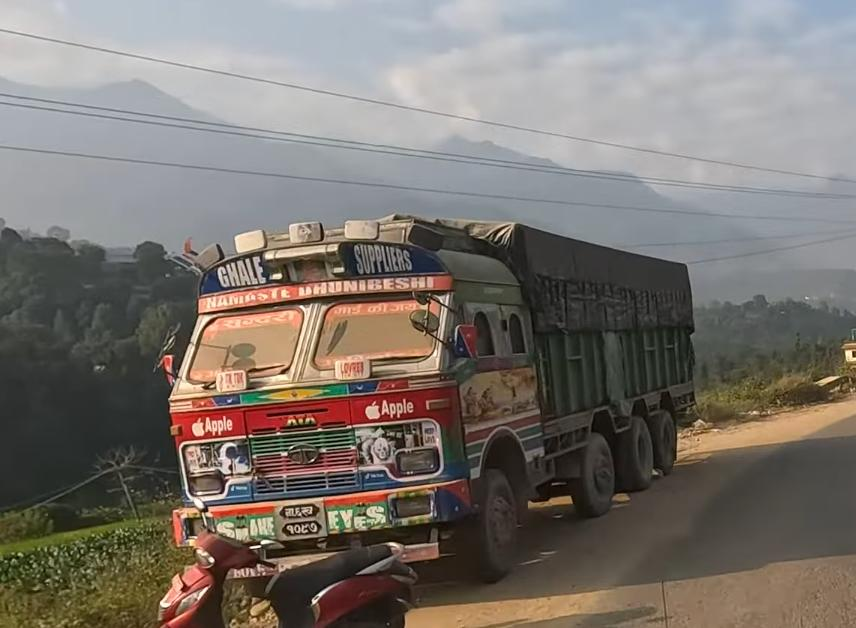scooter: (151, 494, 422, 628)
truck: (154, 211, 698, 584)
